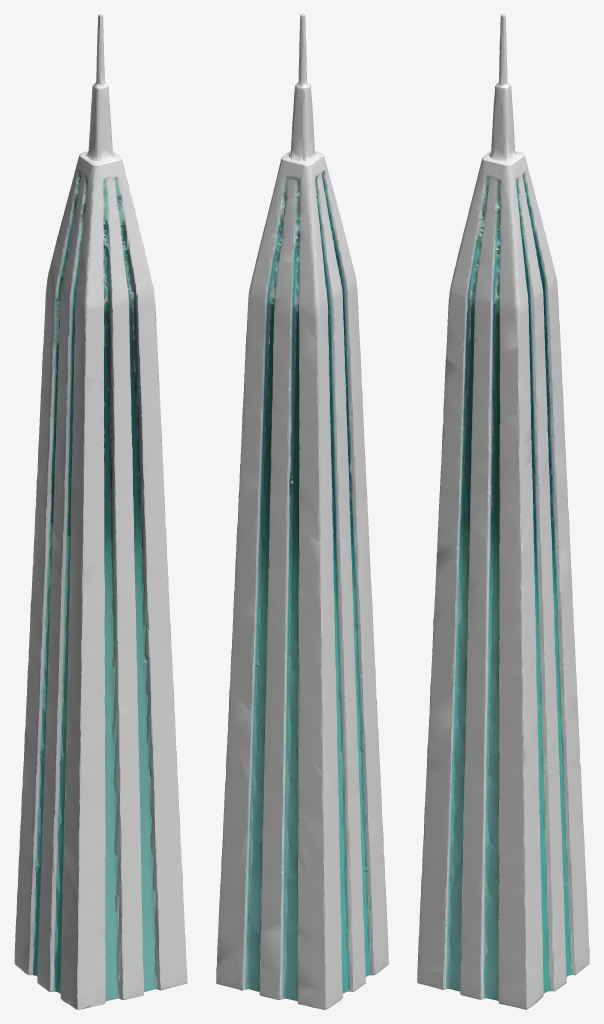
Rendered from spire.glb.
The picture shows the model from 3 angles, left to right: view 1: azimuth 30°, elevation 25°; view 2: azimuth 150°, elevation 25°; view 3: azimuth 330°, elevation 25°; orthographic projection.
Bounding box in the file's own units: 0.239 × 1.9 × 0.2379.
Materials: 1 (1 with a texture image).
